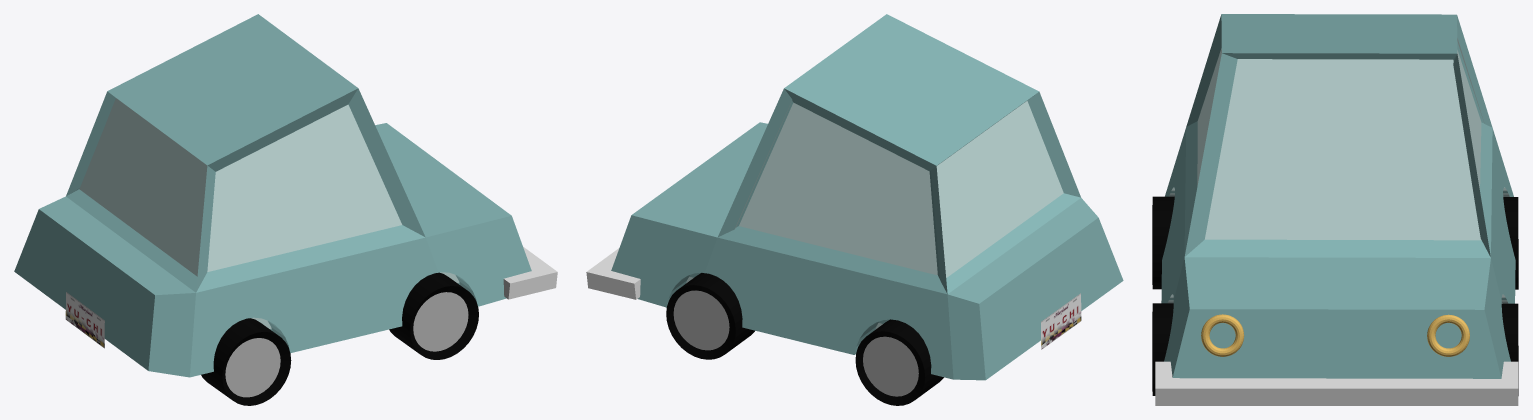
The model's file is car.glb.
The picture shows the model from 3 angles, left to right: view 1: azimuth 30°, elevation 25°; view 2: azimuth 150°, elevation 25°; view 3: azimuth 270°, elevation 25°; orthographic projection. The views are drawn at different scales.
Parts seen in each view (by area): view 1: Cube, Cylinder.003, Cylinder.004, Cube.001, Plane; view 2: Cube, Cylinder, Cylinder.002, Cube.001, Plane; view 3: Cube, Cube.001, Cylinder.003, Cylinder.004, Torus.001, Torus, Cylinder, Cylinder.002.
Part boxes in pixels (left/top/right/bottom): Cube: left=14, top=14, right=531, bottom=377; Cylinder.003: left=201, top=318, right=291, bottom=405; Cylinder.004: left=389, top=272, right=478, bottom=359; Cube.001: left=503, top=246, right=557, bottom=299; Plane: left=65, top=292, right=104, bottom=348; Cube: left=611, top=14, right=1123, bottom=380; Cylinder: left=666, top=273, right=754, bottom=359; Cylinder.002: left=855, top=319, right=943, bottom=405; Cube.001: left=586, top=248, right=640, bottom=299; Plane: left=1041, top=293, right=1081, bottom=349; Cube: left=1161, top=14, right=1515, bottom=378; Cube.001: left=1155, top=361, right=1518, bottom=405; Cylinder.003: left=1152, top=196, right=1174, bottom=289; Cylinder.004: left=1152, top=303, right=1173, bottom=395; Torus.001: left=1201, top=314, right=1244, bottom=356; Torus: left=1427, top=314, right=1469, bottom=356; Cylinder: left=1501, top=303, right=1518, bottom=395; Cylinder.002: left=1503, top=197, right=1518, bottom=289.
Size of the model in its own units: 6.3 by 4.02 by 4.35.
Materials: 5 (3 with a texture image).
